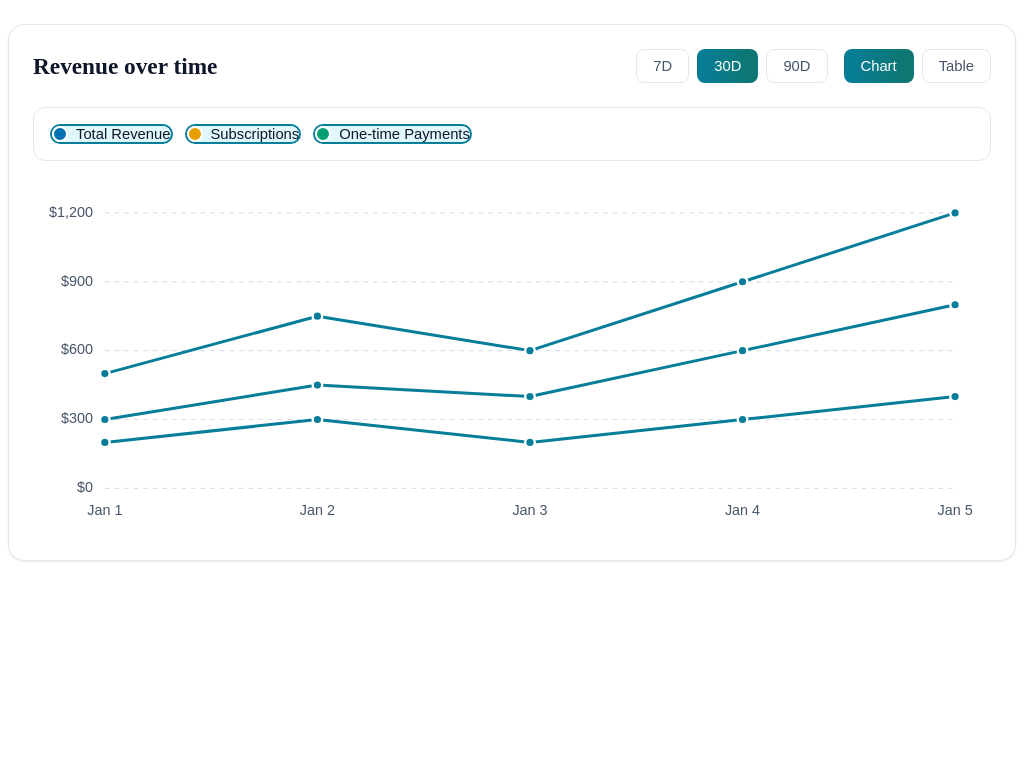
Test case: RevenueChart — Hidden Series Line & Point Rendering › renders SVG path elements for ALL series including hidden ones
This screenshot has width=1024, height=768.
Note: Hide one series
Click the button with aria-label "subscriptions series, visible" at (243, 134), box [184,124,301,144]
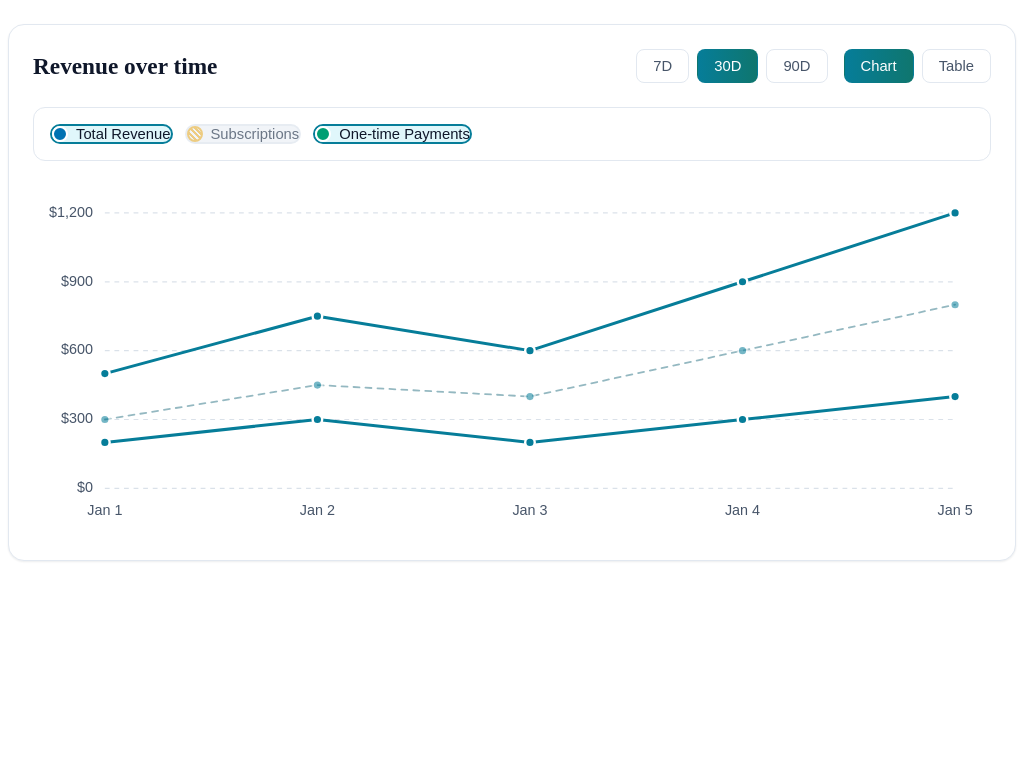
Expected: the button with aria-label "subscriptions series, hidden" is shown, [184,124,301,144]
